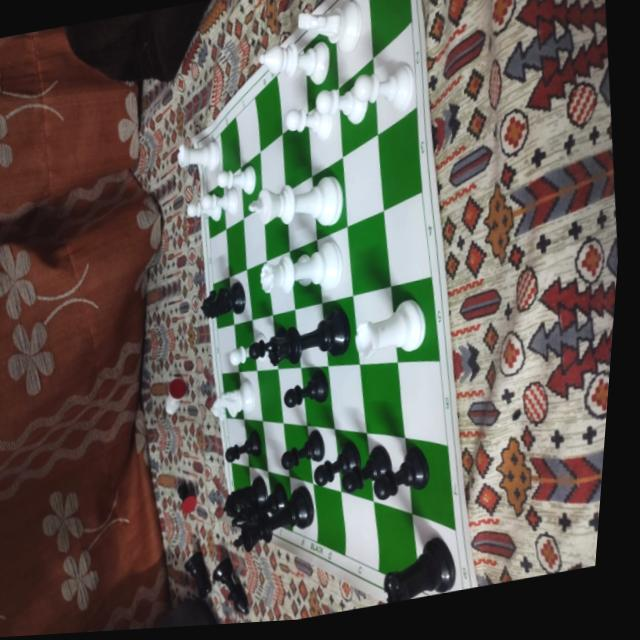board: (194, 0, 466, 590)
square: (373, 19, 416, 133), (405, 437, 456, 529), (378, 105, 421, 208), (384, 191, 431, 285), (397, 360, 447, 445), (374, 500, 420, 590), (391, 276, 439, 360), (339, 56, 378, 155), (342, 134, 384, 225), (412, 513, 460, 592), (367, 432, 412, 512), (347, 210, 390, 293), (333, 0, 373, 87), (353, 286, 398, 363), (360, 361, 405, 437), (303, 17, 338, 111), (308, 87, 342, 175), (341, 490, 378, 570), (312, 156, 347, 238), (317, 225, 353, 301), (335, 427, 372, 500), (328, 363, 367, 432), (322, 294, 360, 364), (277, 48, 308, 133), (282, 110, 312, 191), (368, 0, 411, 56), (286, 174, 317, 250), (307, 423, 341, 490), (313, 483, 345, 554), (290, 238, 322, 308), (254, 73, 282, 150), (295, 302, 328, 366), (301, 365, 334, 428), (260, 132, 286, 205), (266, 249, 295, 313), (283, 421, 313, 482), (289, 475, 316, 541), (264, 190, 289, 260), (272, 307, 301, 367), (278, 366, 307, 424), (236, 96, 260, 166), (246, 260, 273, 318), (240, 150, 263, 216), (262, 420, 289, 475), (243, 205, 266, 269), (268, 469, 292, 530), (252, 313, 278, 369), (257, 367, 283, 421), (243, 417, 268, 470), (248, 465, 272, 519), (220, 115, 240, 179), (229, 268, 252, 323), (223, 166, 243, 227), (239, 369, 262, 420), (226, 217, 246, 275), (204, 132, 223, 192), (234, 319, 256, 370), (207, 179, 226, 237), (213, 275, 234, 327), (209, 228, 229, 282), (217, 323, 239, 372), (222, 370, 244, 418), (226, 417, 248, 465), (231, 462, 252, 509)
